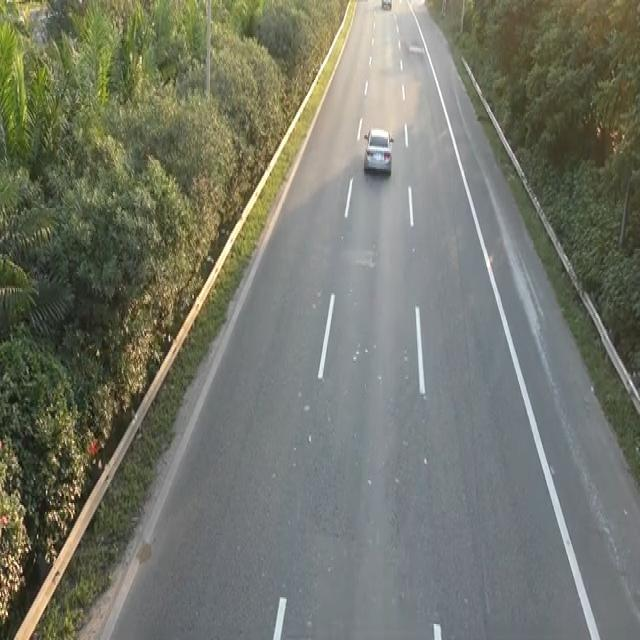bus: (362, 123, 395, 176)
